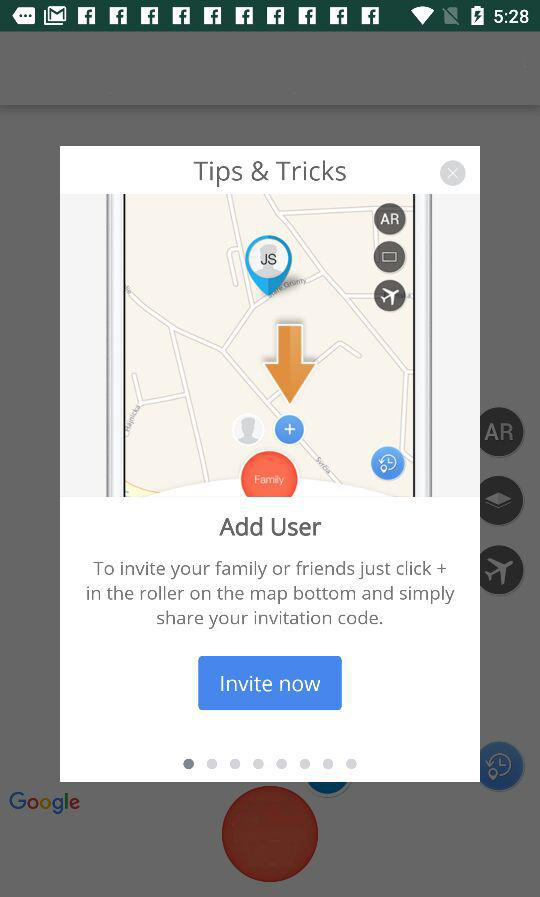Icon: (440, 161, 465, 186)
Image: (61, 195, 479, 499)
Modal: (60, 147, 480, 782)
PageIndicator: (183, 758, 359, 770)
Text: (86, 561, 455, 629), (194, 161, 346, 189), (219, 516, 322, 536)
TextButton: (198, 656, 343, 709)
UpperTaskBar: (1, 1, 540, 33)
